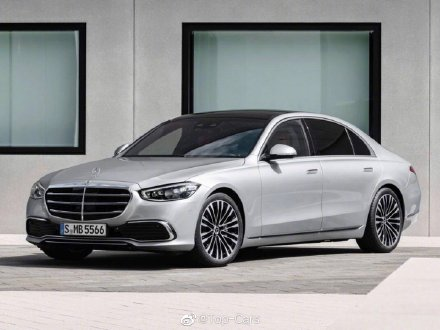other: (26, 107, 426, 267)
